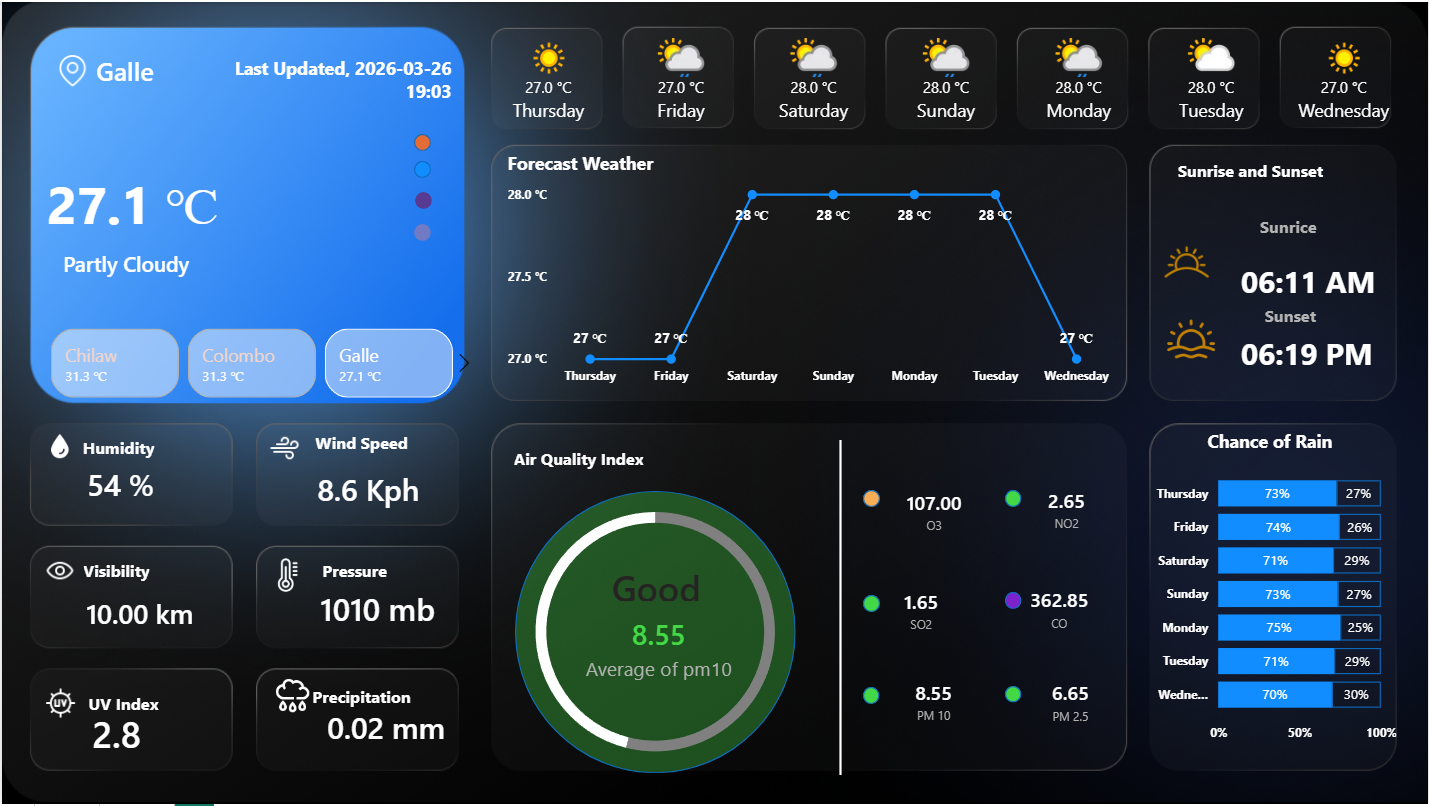

What the dashboard file says about the page in this screenshot:
{"tool":"powerbi","page":{"name":"Blue","canvas":[1280,720],"ordinal":1},"visuals":[{"type":"advancedSlicerVisual","fields":{"Values":["Currrent.City"]},"box":[19,288,411,72],"z":0},{"type":"shape","box":[40.4,105,232.5,149.9],"z":1000},{"type":"image","box":[49,39,28,45],"z":2000},{"type":"shape","box":[179.5,38.6,224,61.8],"z":3000},{"type":"cardVisual","fields":{"Data":["Min(Master_Table.condition_icon)"]},"box":[26,101,161,84],"z":4000},{"type":"image","box":[26.3,496.2,52.6,28.2],"z":5000},{"type":"image","box":[40.4,383.4,22.6,31],"z":6000},{"type":"image","box":[38.5,611.8,28.2,36.7],"z":7000},{"type":"image","box":[235.9,387.2,35.7,27.3],"z":8000},{"type":"image","box":[241.5,496.2,30.1,35.7],"z":9000},{"type":"image","box":[233.1,604.3,54.5,36.7],"z":10000},{"type":"shape","box":[260.3,370.3,125,50.7],"z":11000},{"type":"shape","box":[47,604.3,125,50.7],"z":12000},{"type":"shape","box":[40.4,484.9,125,50.7],"z":13000},{"type":"shape","box":[52.6,373.1,103.4,51.7],"z":14000},{"type":"shape","box":[253.7,484.9,125,50.7],"z":15000},{"type":"shape","box":[260.3,597.7,125,50.7],"z":16000},{"type":"cardVisual","fields":{"Data":["Min(Forcast_Hour.humidity)"]},"box":[48,394,124,74],"z":17000},{"type":"cardVisual","fields":{"Data":["Avg(Master_Table.precip_mm)"]},"box":[263,615,185.8,70.9],"z":18000},{"type":"cardVisual","fields":{"Data":["Avg(Currrent.Pressure_MB)"]},"box":[256.8,503.6,167,79.9],"z":19000},{"type":"cardVisual","fields":{"Data":["Avg(Currrent.Visibility)"]},"box":[46.7,505.4,205.6,83.5],"z":20000},{"type":"cardVisual","fields":{"Data":["Mesur.Wind_speed"]},"box":[253.7,395.7,175.7,79.9],"z":21000},{"type":"cardVisual","fields":{"Data":["Min(Forcast_Day.uv)"]},"box":[52,615,162,81],"z":22000},{"type":"shape","box":[369.9,118.5,15.3,15.3],"z":23000},{"type":"shape","box":[369.9,142.7,15.3,15.3],"z":24000},{"type":"shape","box":[370.8,170.6,15.3,15.3],"z":25000},{"type":"shape","box":[369.9,199.3,15.3,15.3],"z":26000},{"type":"cardVisual","fields":{"Data":["Min(Currrent.City)"]},"box":[56,14,189,94],"z":27000},{"type":"cardVisual","fields":{"Data":["Min(Forcast_Day.condition_text)"]},"box":[26,202,276.5,62.8],"z":28000},{"type":"shape","box":[1034.2,125.7,173.3,50.3],"z":29000},{"type":"shape","box":[1068.4,176.2,173,50],"z":30000},{"type":"shape","box":[1070.5,255.4,173,51.1],"z":31000},{"type":"image","box":[1036.1,281.4,63.6,42.7],"z":32000},{"type":"image","box":[1026.7,207.4,73,52.1],"z":33000},{"type":"shape","box":[1112,219.1,129.4,61.8],"z":34000},{"type":"shape","box":[1112,287.7,129.4,57],"z":35000},{"type":"cardVisual","fields":{"Data":["Avg(Currrent.no2)"]},"box":[885.5,409,141,91.5],"z":36000},{"type":"cardVisual","fields":{"Data":["Avg(Currrent.so2)"]},"box":[757.5,498,135.5,95.5],"z":37000},{"type":"cardVisual","fields":{"Data":["Avg(Currrent.pm2_5)"]},"box":[885.5,579.5,148.5,98.5],"z":38000},{"type":"cardVisual","fields":{"Data":["Avg(Currrent.o3)"]},"box":[769,403,135,107],"z":39000},{"type":"cardVisual","fields":{"Data":["Avg(Currrent.co)"]},"box":[885.4,495.7,128,98.2],"z":40000},{"type":"cardVisual","fields":{"Data":["Avg(Currrent.pm10)"]},"box":[765,581,143,93],"z":41000},{"type":"shape","box":[773.2,438.4,15.2,15.2],"z":42000},{"type":"shape","box":[773.2,532.3,15.2,15.2],"z":43000},{"type":"shape","box":[900.6,438.4,14.6,15.2],"z":44000},{"type":"shape","box":[900.6,529.9,14.6,15.2],"z":45000},{"type":"shape","box":[900.6,614,14.6,14.6],"z":46000},{"type":"shape","box":[773.2,615.2,14.6,15.2],"z":47000},{"type":"shape","box":[724.5,393.2,56.6,300.7],"z":48000},{"type":"advancedSlicerVisual","fields":{"Values":["Forcast_Day.Day_Name"]},"box":[430,14.4,837.6,111.3],"z":49000},{"type":"lineChart","title":"Forecast Weather","fields":{"Y":["Avg(Forcast_Day.avgtemp_c)"],"Category":["Forcast_Day.Day_Name"]},"box":[448.9,133.8,553.9,220],"z":50000},{"type":"hundredPercentStackedBarChart","title":"Chance of Rain","fields":{"Category":["Forcast_Day.Day_Name"],"Y":["CountNonNull(Forcast_Hour.chance_of_rain)","Currrent.Left_value_Rain"]},"box":[1019.9,383.3,237,290.9],"z":51000},{"type":"shape","box":[448.6,383.8,137.9,50.4],"z":51001},{"type":"shape","box":[460.7,438.7,252,253.3],"z":51002},{"type":"donutChart","fields":{"Y":["Avg(Currrent.o3)","Mesur.Left_value_PM10"]},"box":[447.3,415.3,278.7,299.3],"z":51003},{"type":"cardVisual","title":"Unhealthy For SEnsitive O3","fields":{"Data":["Avg(Currrent.pm10)"]},"box":[408,459.4,364.9,239.3],"z":51004},{"type":"cardVisual","fields":{"Data":["Currrent.AQI Status Text"]},"box":[450.2,493.3,276,62.3],"z":51005}]}

Visuals, with their boxes in screenshot pixels (x1, y1, x2, y2), scaled from the page's 1280x720 canvas onto the 1429x806 screenshot:
advancedSlicerVisual - Currrent.City: bbox=(21, 322, 480, 403)
shape: bbox=(45, 118, 305, 285)
image: bbox=(55, 44, 86, 94)
shape: bbox=(200, 43, 450, 112)
cardVisual - Min(Master_Table.condition_icon): bbox=(29, 113, 209, 207)
image: bbox=(29, 555, 88, 587)
image: bbox=(45, 429, 70, 464)
image: bbox=(43, 685, 74, 726)
image: bbox=(263, 433, 303, 464)
image: bbox=(270, 555, 303, 595)
image: bbox=(260, 676, 321, 718)
shape: bbox=(291, 415, 430, 471)
shape: bbox=(52, 676, 192, 733)
shape: bbox=(45, 543, 185, 600)
shape: bbox=(59, 418, 174, 476)
shape: bbox=(283, 543, 423, 600)
shape: bbox=(291, 669, 430, 726)
cardVisual - Min(Forcast_Hour.humidity): bbox=(54, 441, 192, 524)
cardVisual - Avg(Master_Table.precip_mm): bbox=(294, 688, 501, 768)
cardVisual - Avg(Currrent.Pressure_MB): bbox=(287, 564, 473, 653)
cardVisual - Avg(Currrent.Visibility): bbox=(52, 566, 282, 659)
cardVisual - Mesur.Wind_speed: bbox=(283, 443, 479, 532)
cardVisual - Min(Forcast_Day.uv): bbox=(58, 688, 239, 779)
shape: bbox=(413, 133, 430, 150)
shape: bbox=(413, 160, 430, 177)
shape: bbox=(414, 191, 431, 208)
shape: bbox=(413, 223, 430, 240)
cardVisual - Min(Currrent.City): bbox=(63, 16, 274, 121)
cardVisual - Min(Forcast_Day.condition_text): bbox=(29, 226, 338, 296)
shape: bbox=(1155, 141, 1348, 197)
shape: bbox=(1193, 197, 1386, 253)
shape: bbox=(1195, 286, 1388, 343)
image: bbox=(1157, 315, 1228, 363)
image: bbox=(1146, 232, 1228, 290)
shape: bbox=(1241, 245, 1386, 314)
shape: bbox=(1241, 322, 1386, 386)
cardVisual - Avg(Currrent.no2): bbox=(989, 458, 1146, 560)
cardVisual - Avg(Currrent.so2): bbox=(846, 557, 997, 664)
cardVisual - Avg(Currrent.pm2_5): bbox=(989, 649, 1154, 759)
cardVisual - Avg(Currrent.o3): bbox=(859, 451, 1009, 571)
cardVisual - Avg(Currrent.co): bbox=(988, 555, 1131, 665)
cardVisual - Avg(Currrent.pm10): bbox=(854, 650, 1014, 755)
shape: bbox=(863, 491, 880, 508)
shape: bbox=(863, 596, 880, 613)
shape: bbox=(1005, 491, 1022, 508)
shape: bbox=(1005, 593, 1022, 610)
shape: bbox=(1005, 687, 1022, 704)
shape: bbox=(863, 689, 880, 706)
shape: bbox=(809, 440, 872, 777)
advancedSlicerVisual - Forcast_Day.Day_Name: bbox=(480, 16, 1415, 141)
"Forecast Weather" lineChart: bbox=(501, 150, 1120, 396)
"Chance of Rain" hundredPercentStackedBarChart: bbox=(1139, 429, 1403, 755)
shape: bbox=(501, 430, 655, 486)
shape: bbox=(514, 491, 796, 775)
donutChart - Avg(Currrent.o3) x Mesur.Left_value_PM10: bbox=(499, 465, 811, 800)
"Unhealthy For SEnsitive O3" cardVisual: bbox=(455, 514, 863, 782)
cardVisual - Currrent.AQI Status Text: bbox=(503, 552, 811, 622)
